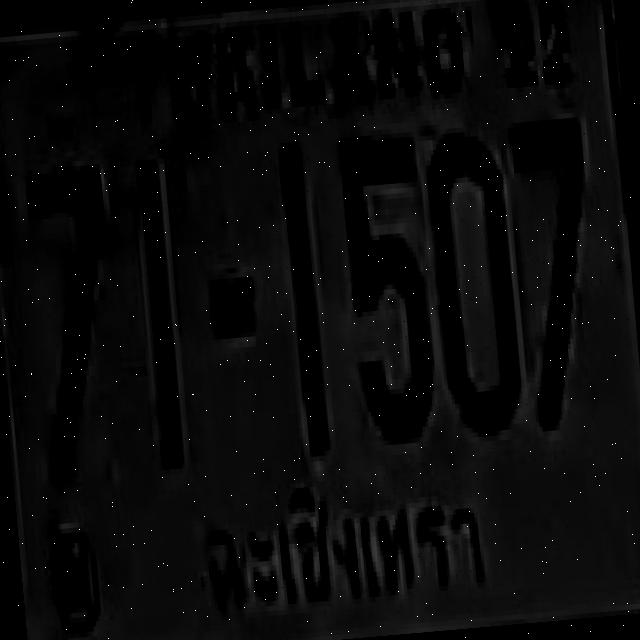0: (422, 126, 524, 432)
1: (276, 146, 328, 452), (133, 158, 183, 464)
5: (336, 132, 438, 442)
7: (20, 162, 124, 476), (506, 114, 603, 430), (506, 114, 597, 360)
Chachoengsao: (185, 460, 504, 632)
